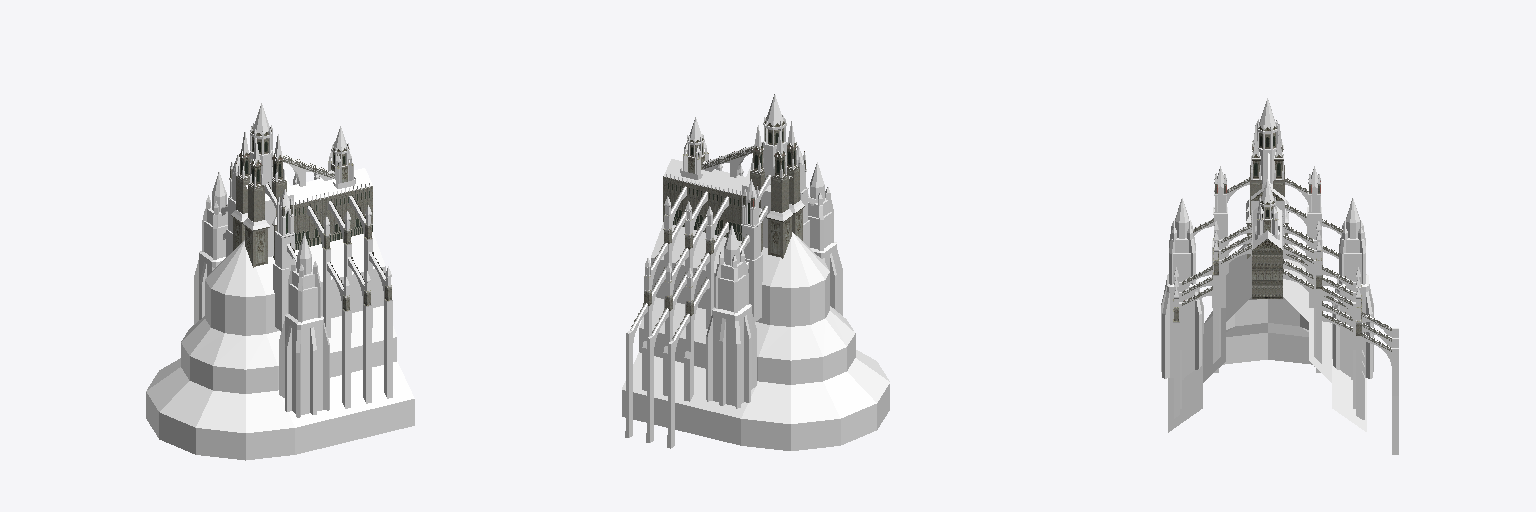
The picture shows the model from 3 angles: view 1: azimuth 30°, elevation 25°; view 2: azimuth 150°, elevation 25°; view 3: azimuth 270°, elevation 25°; orthographic projection.
Visible parts, largest first — view 1: mesh0, mesh1, mesh3, mesh2, mesh11, mesh15, mesh4; view 2: mesh0, mesh1, mesh3, mesh2, mesh15, mesh11, mesh4; view 3: mesh0, mesh1, mesh6, mesh4, mesh3, mesh15.
Part boxes in pixels (x1,y1,x2,y2): mesh0: (146, 132, 414, 460); mesh1: (146, 103, 414, 432); mesh3: (231, 127, 348, 267); mesh2: (294, 186, 372, 249); mesh11: (146, 138, 414, 435); mesh15: (221, 151, 385, 289); mesh4: (324, 225, 391, 310); mesh0: (622, 122, 889, 450); mesh1: (622, 94, 889, 423); mesh3: (688, 117, 804, 258); mesh2: (663, 176, 741, 240); mesh15: (630, 142, 815, 340); mesh11: (622, 129, 889, 426); mesh4: (644, 230, 713, 315); mesh0: (1161, 129, 1398, 454); mesh1: (1167, 98, 1368, 432); mesh6: (1182, 177, 1391, 351); mesh4: (1174, 241, 1361, 335); mesh3: (1246, 126, 1288, 258); mesh15: (1182, 153, 1391, 348).
Bounding box in the file's own units: 167 × 245 × 167.
Materials: 17 (8 with a texture image).